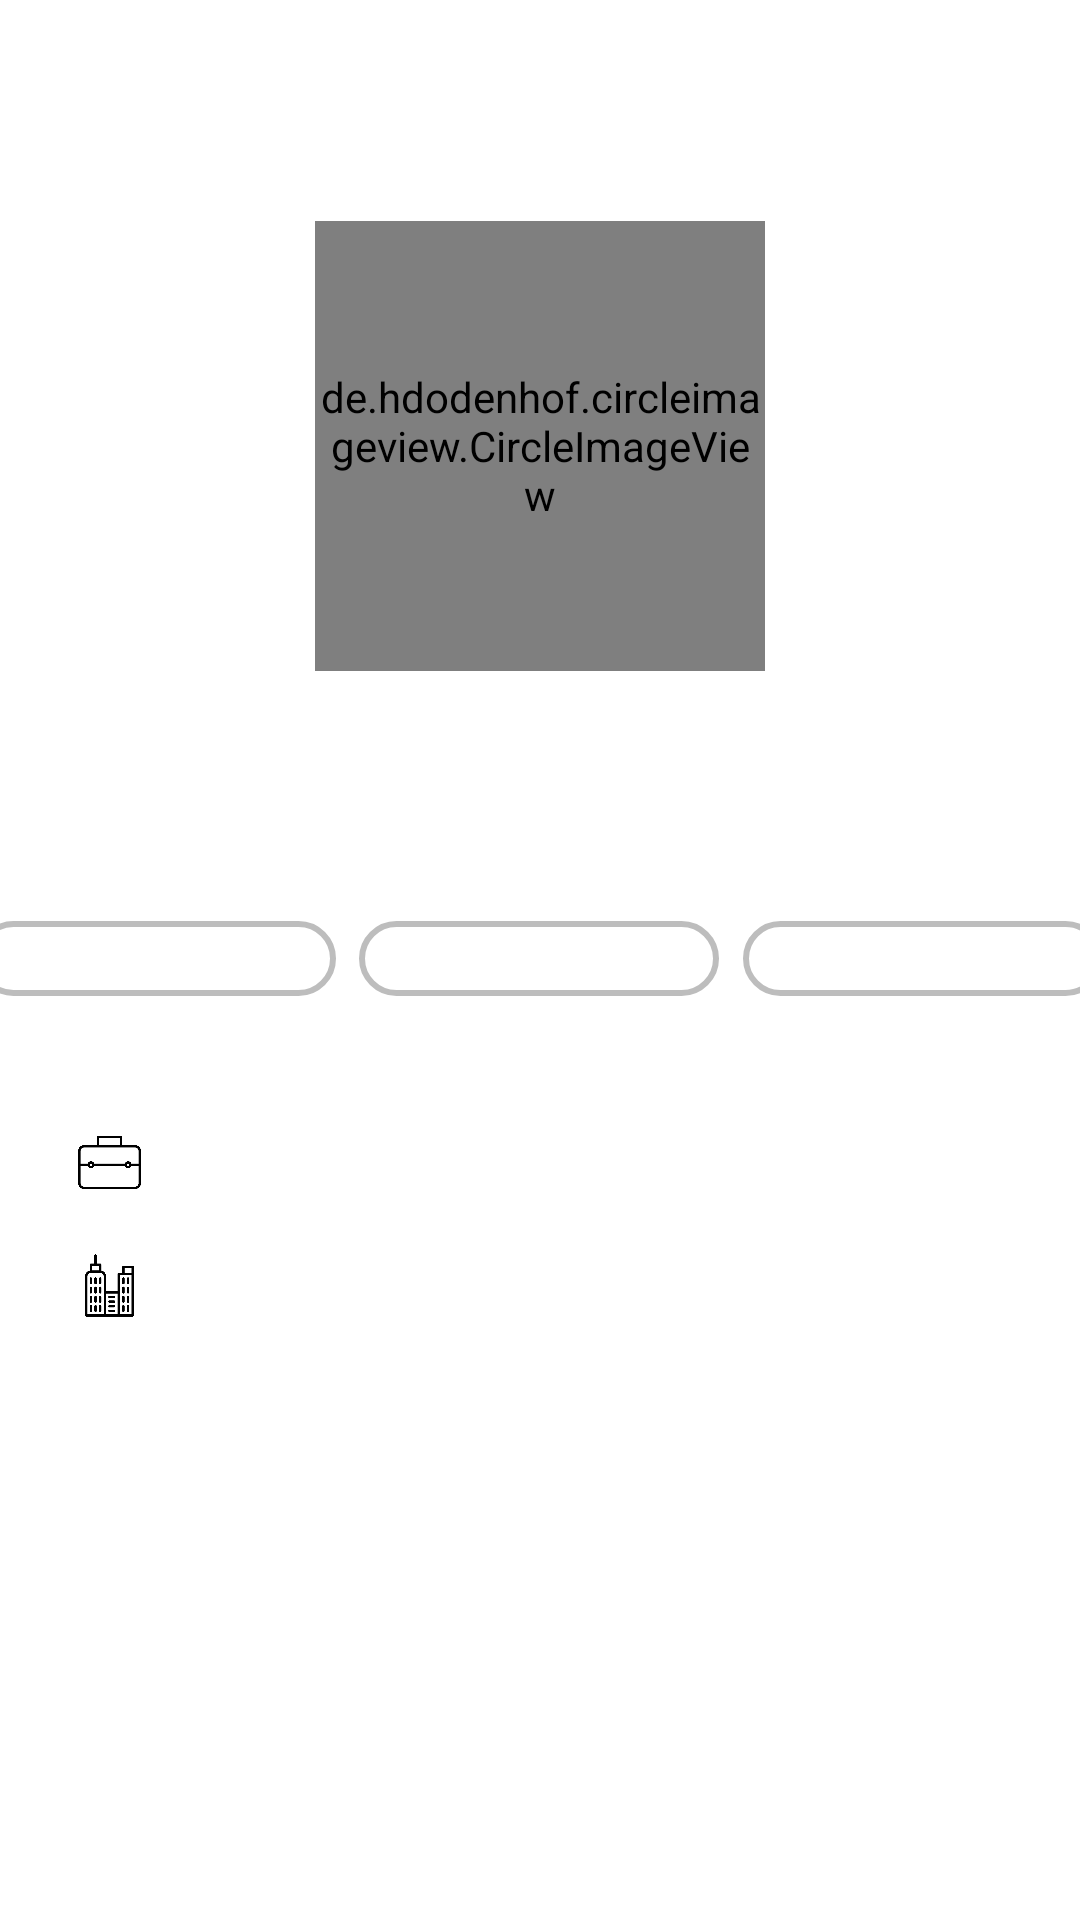

Screen size 1080×1920. Icon name, then its center in pixels as (x=x, y=y):
work: (x=109, y=1162)
